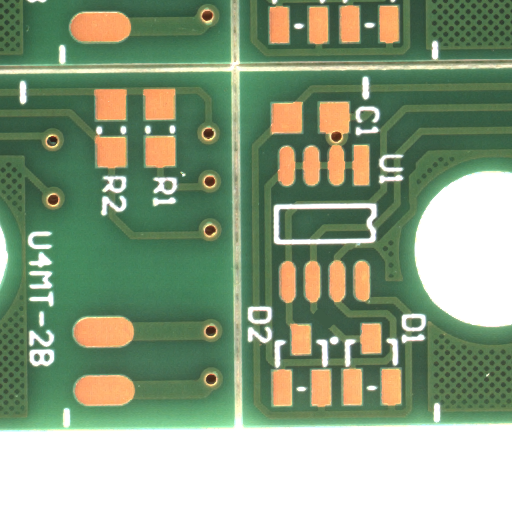Open_circuit: (324, 320, 347, 341)
